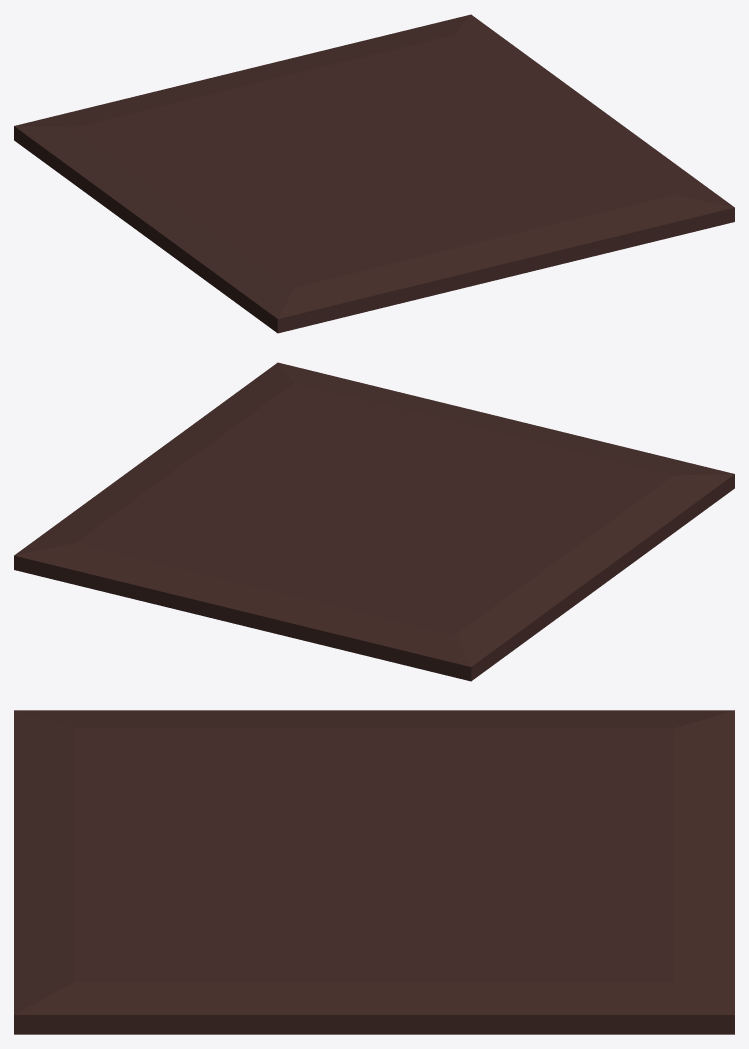
The model's file is Platform.glb.
The picture shows the model from 3 angles, top to bottom: view 1: azimuth 30°, elevation 25°; view 2: azimuth 150°, elevation 25°; view 3: azimuth 270°, elevation 25°; orthographic projection. The views are drawn at different scales.
Visible parts, largest first — view 1: FloorPlate; view 2: FloorPlate; view 3: FloorPlate.
Boxes of the visible parts, bbox=[...] form: FloorPlate: bbox=[14, 14, 734, 333]; FloorPlate: bbox=[14, 362, 734, 681]; FloorPlate: bbox=[14, 710, 734, 1034].
Size of the model in its own units: 10.14 by 0.4221 by 10.13.
